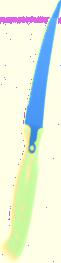Knife: (5, 1, 60, 259)
